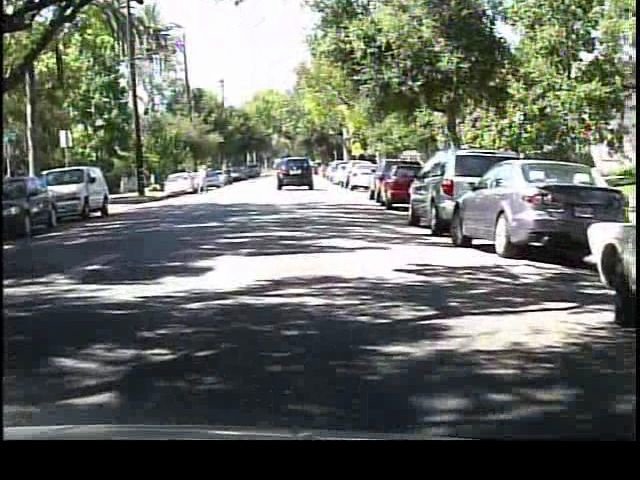person: (191, 160, 211, 199)
